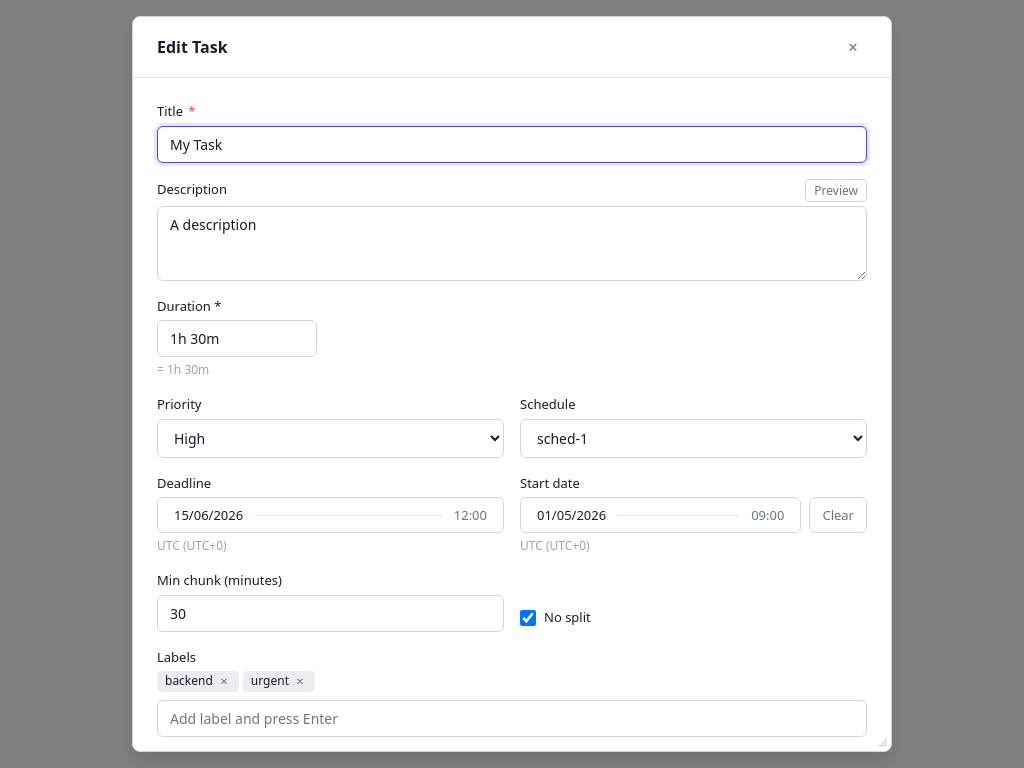
Test: TaskForm — edit mode rendering › renders actions in the modal footer and binds submit to the form
The image size is (1024, 768).
Replace the text in the field with placeholder "Task title" with "Changed" at (512, 144), box [157,126,867,162]
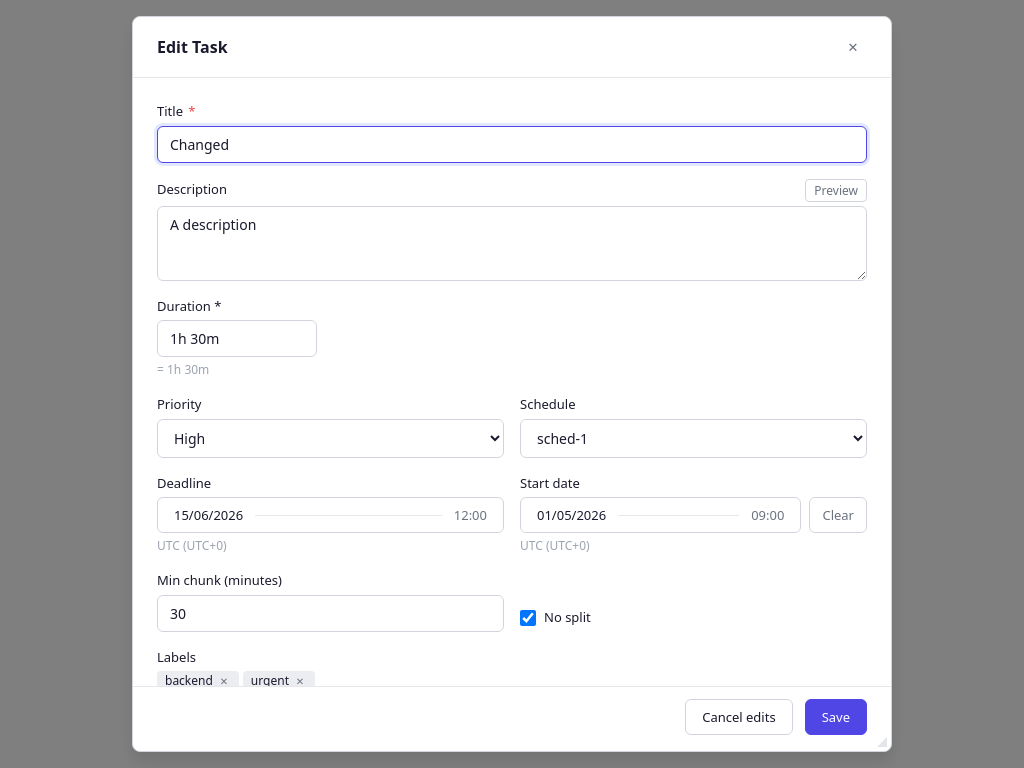
Check: the form with class "task-form" is shown, box [157,102,867,686]
Check: the element with class "modal-footer" is shown, box [133,686,891,751]
